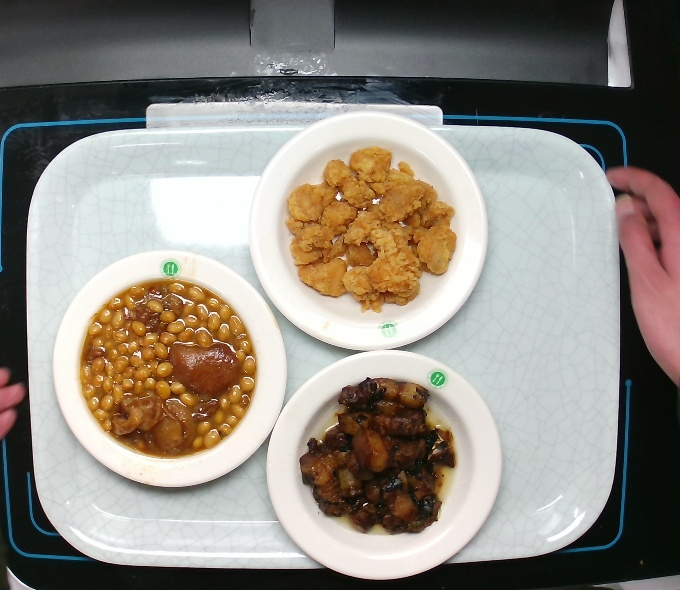wcq-GanCaiRou: (295, 374, 469, 544)
wcq-HuangDouZhuJiao: (73, 269, 266, 467)
wcq-JiMiHua: (279, 142, 465, 321)
